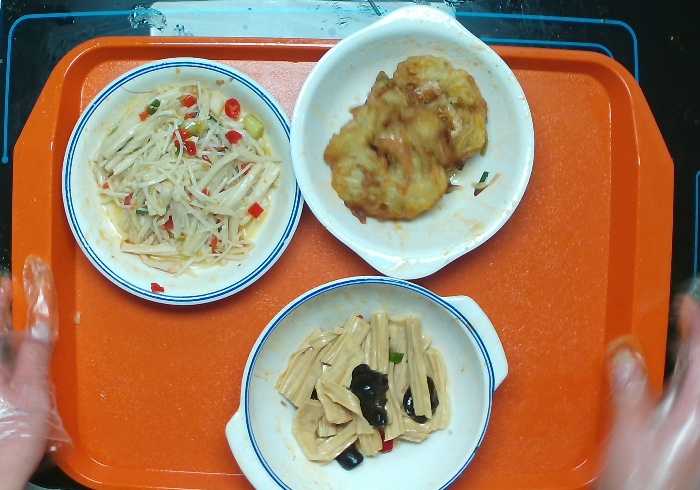HZYJPL-Dai_Er_Bai_Yuan_Wan: (285, 1, 539, 285)
HZYJPL-Lan_Bian_Dai_Er_Wan: (220, 273, 513, 490)
HZYJPL-Lan_Bian_Yuan_Die: (58, 53, 308, 310)
